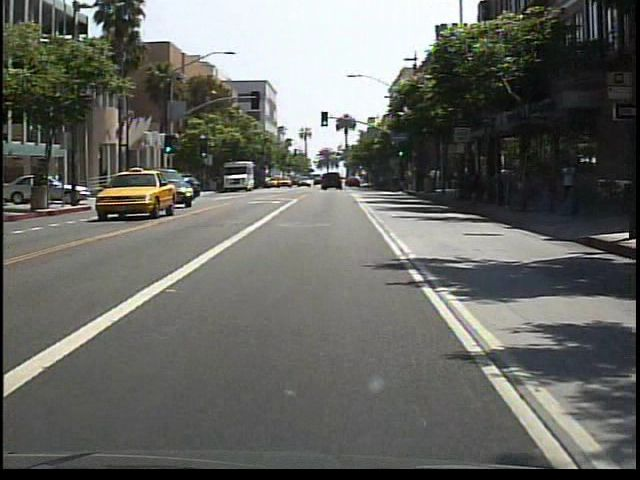person: (558, 156, 582, 192)
